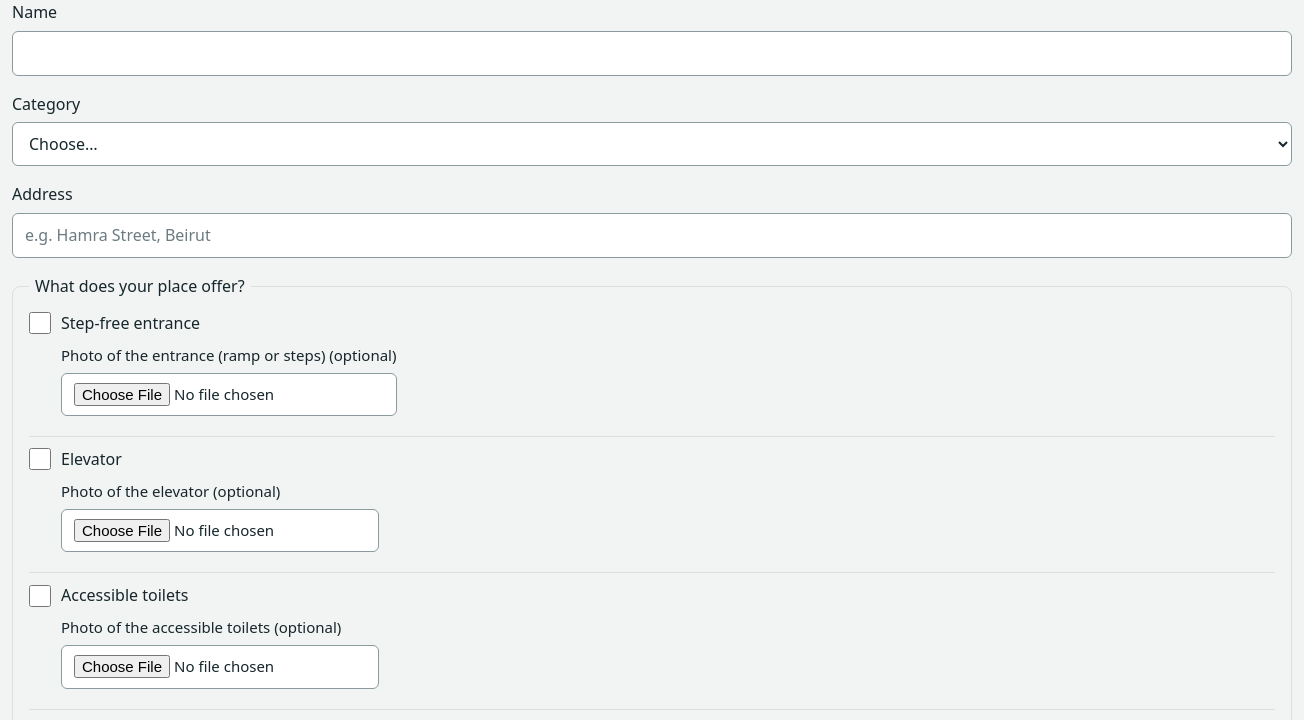
PlaceForm › shows the error from the API
The image size is (1304, 720).
Type "Nowhere" into the field labelled "Name" at {"x": 652, "y": 53}, box [12, 31, 1292, 76]
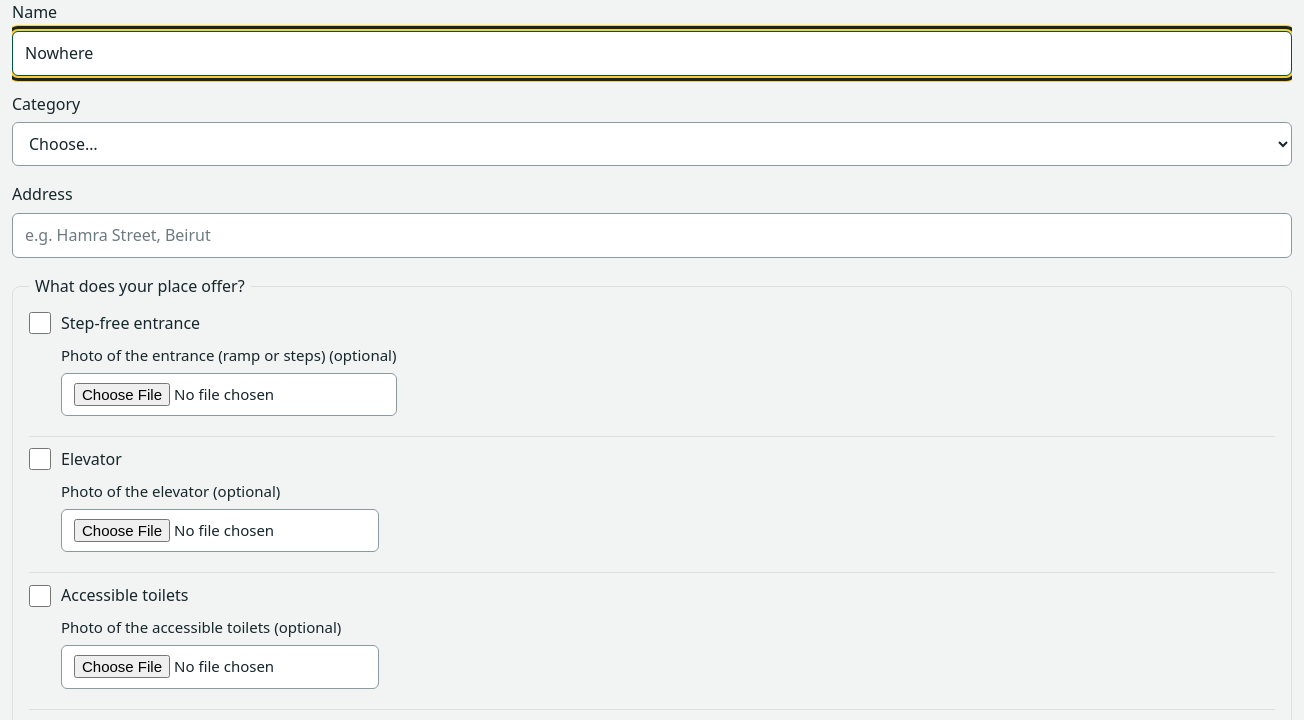
Select "shop" in the dropdown labelled "Category" at {"x": 652, "y": 144}, box [12, 122, 1292, 166]
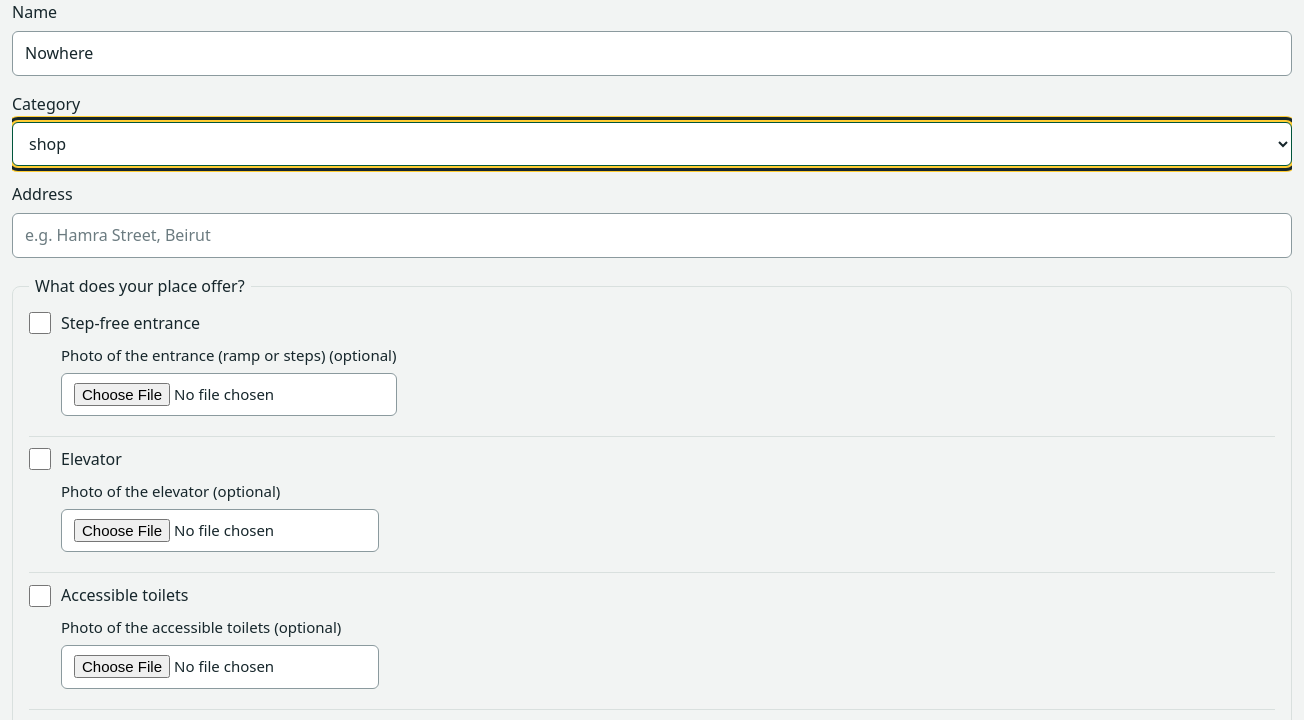
Type "zzz" into the field labelled "Address" at {"x": 652, "y": 236}, box [12, 213, 1292, 258]
(page scrolled)
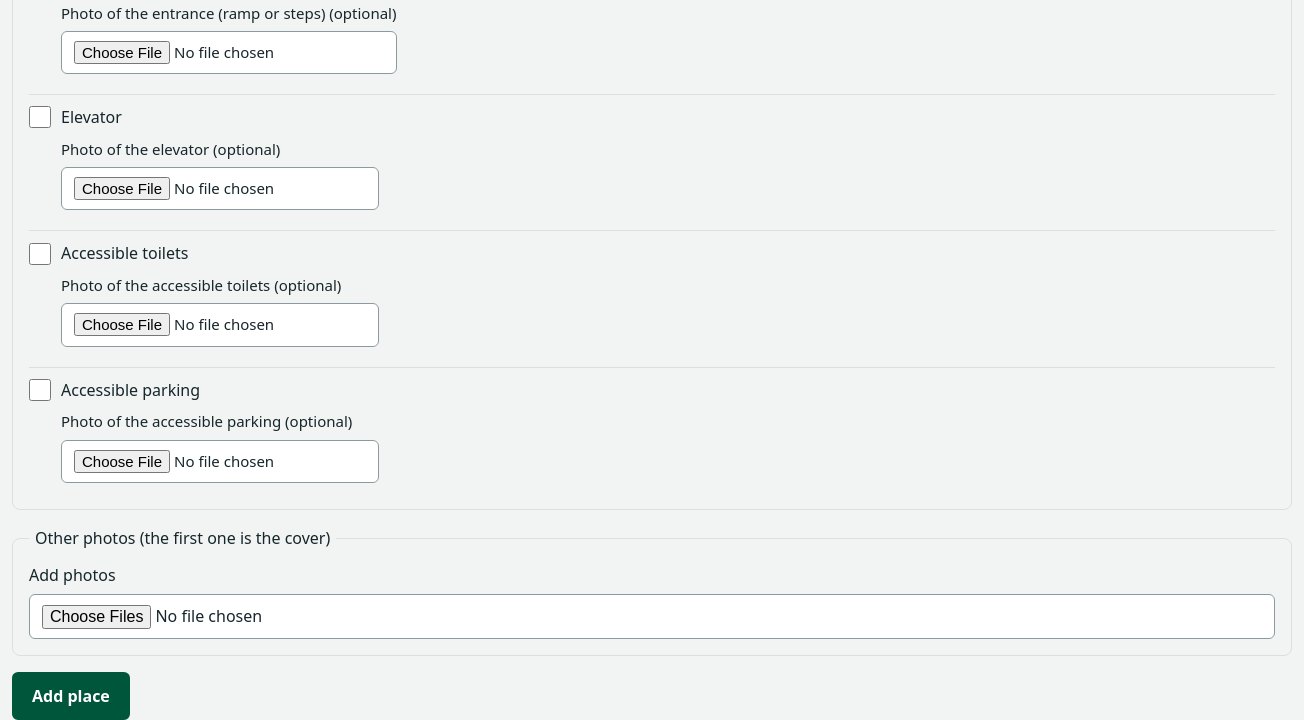
Click the button "Add place" at {"x": 71, "y": 696}, box [12, 672, 130, 719]
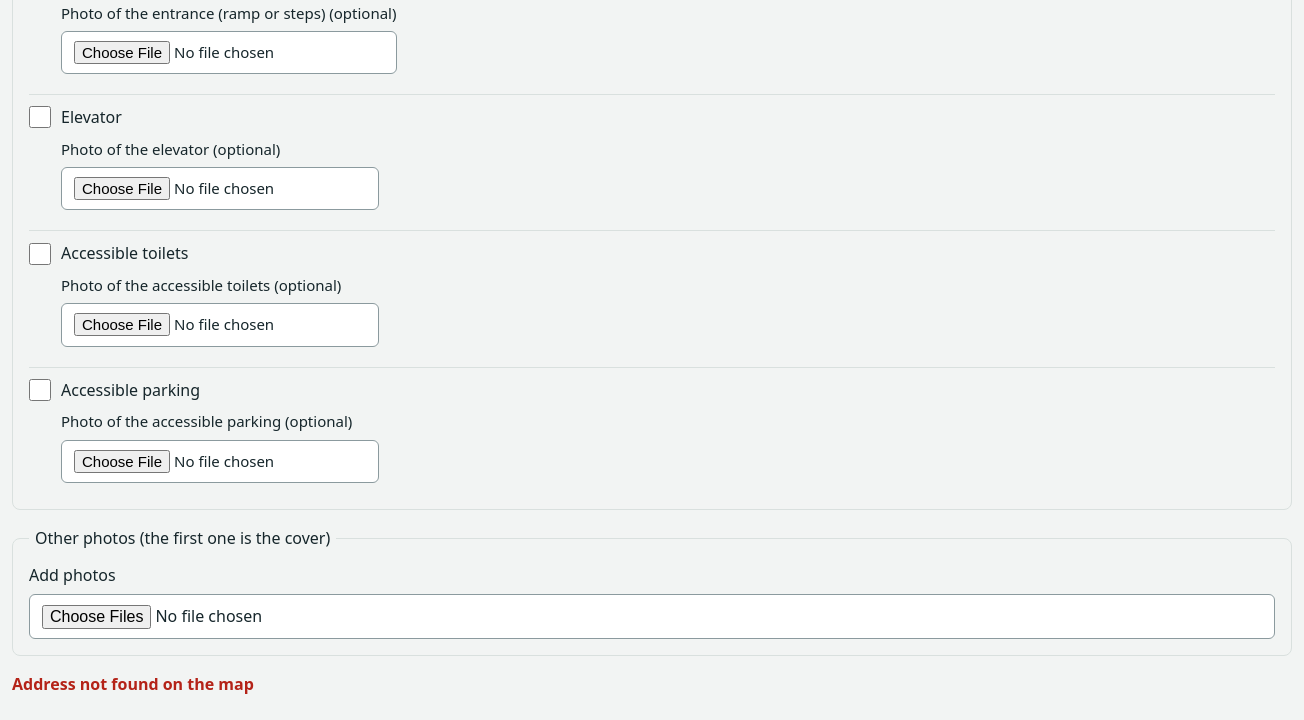
expect the message reads "Address not found on the map": met, box [12, 673, 254, 695]
